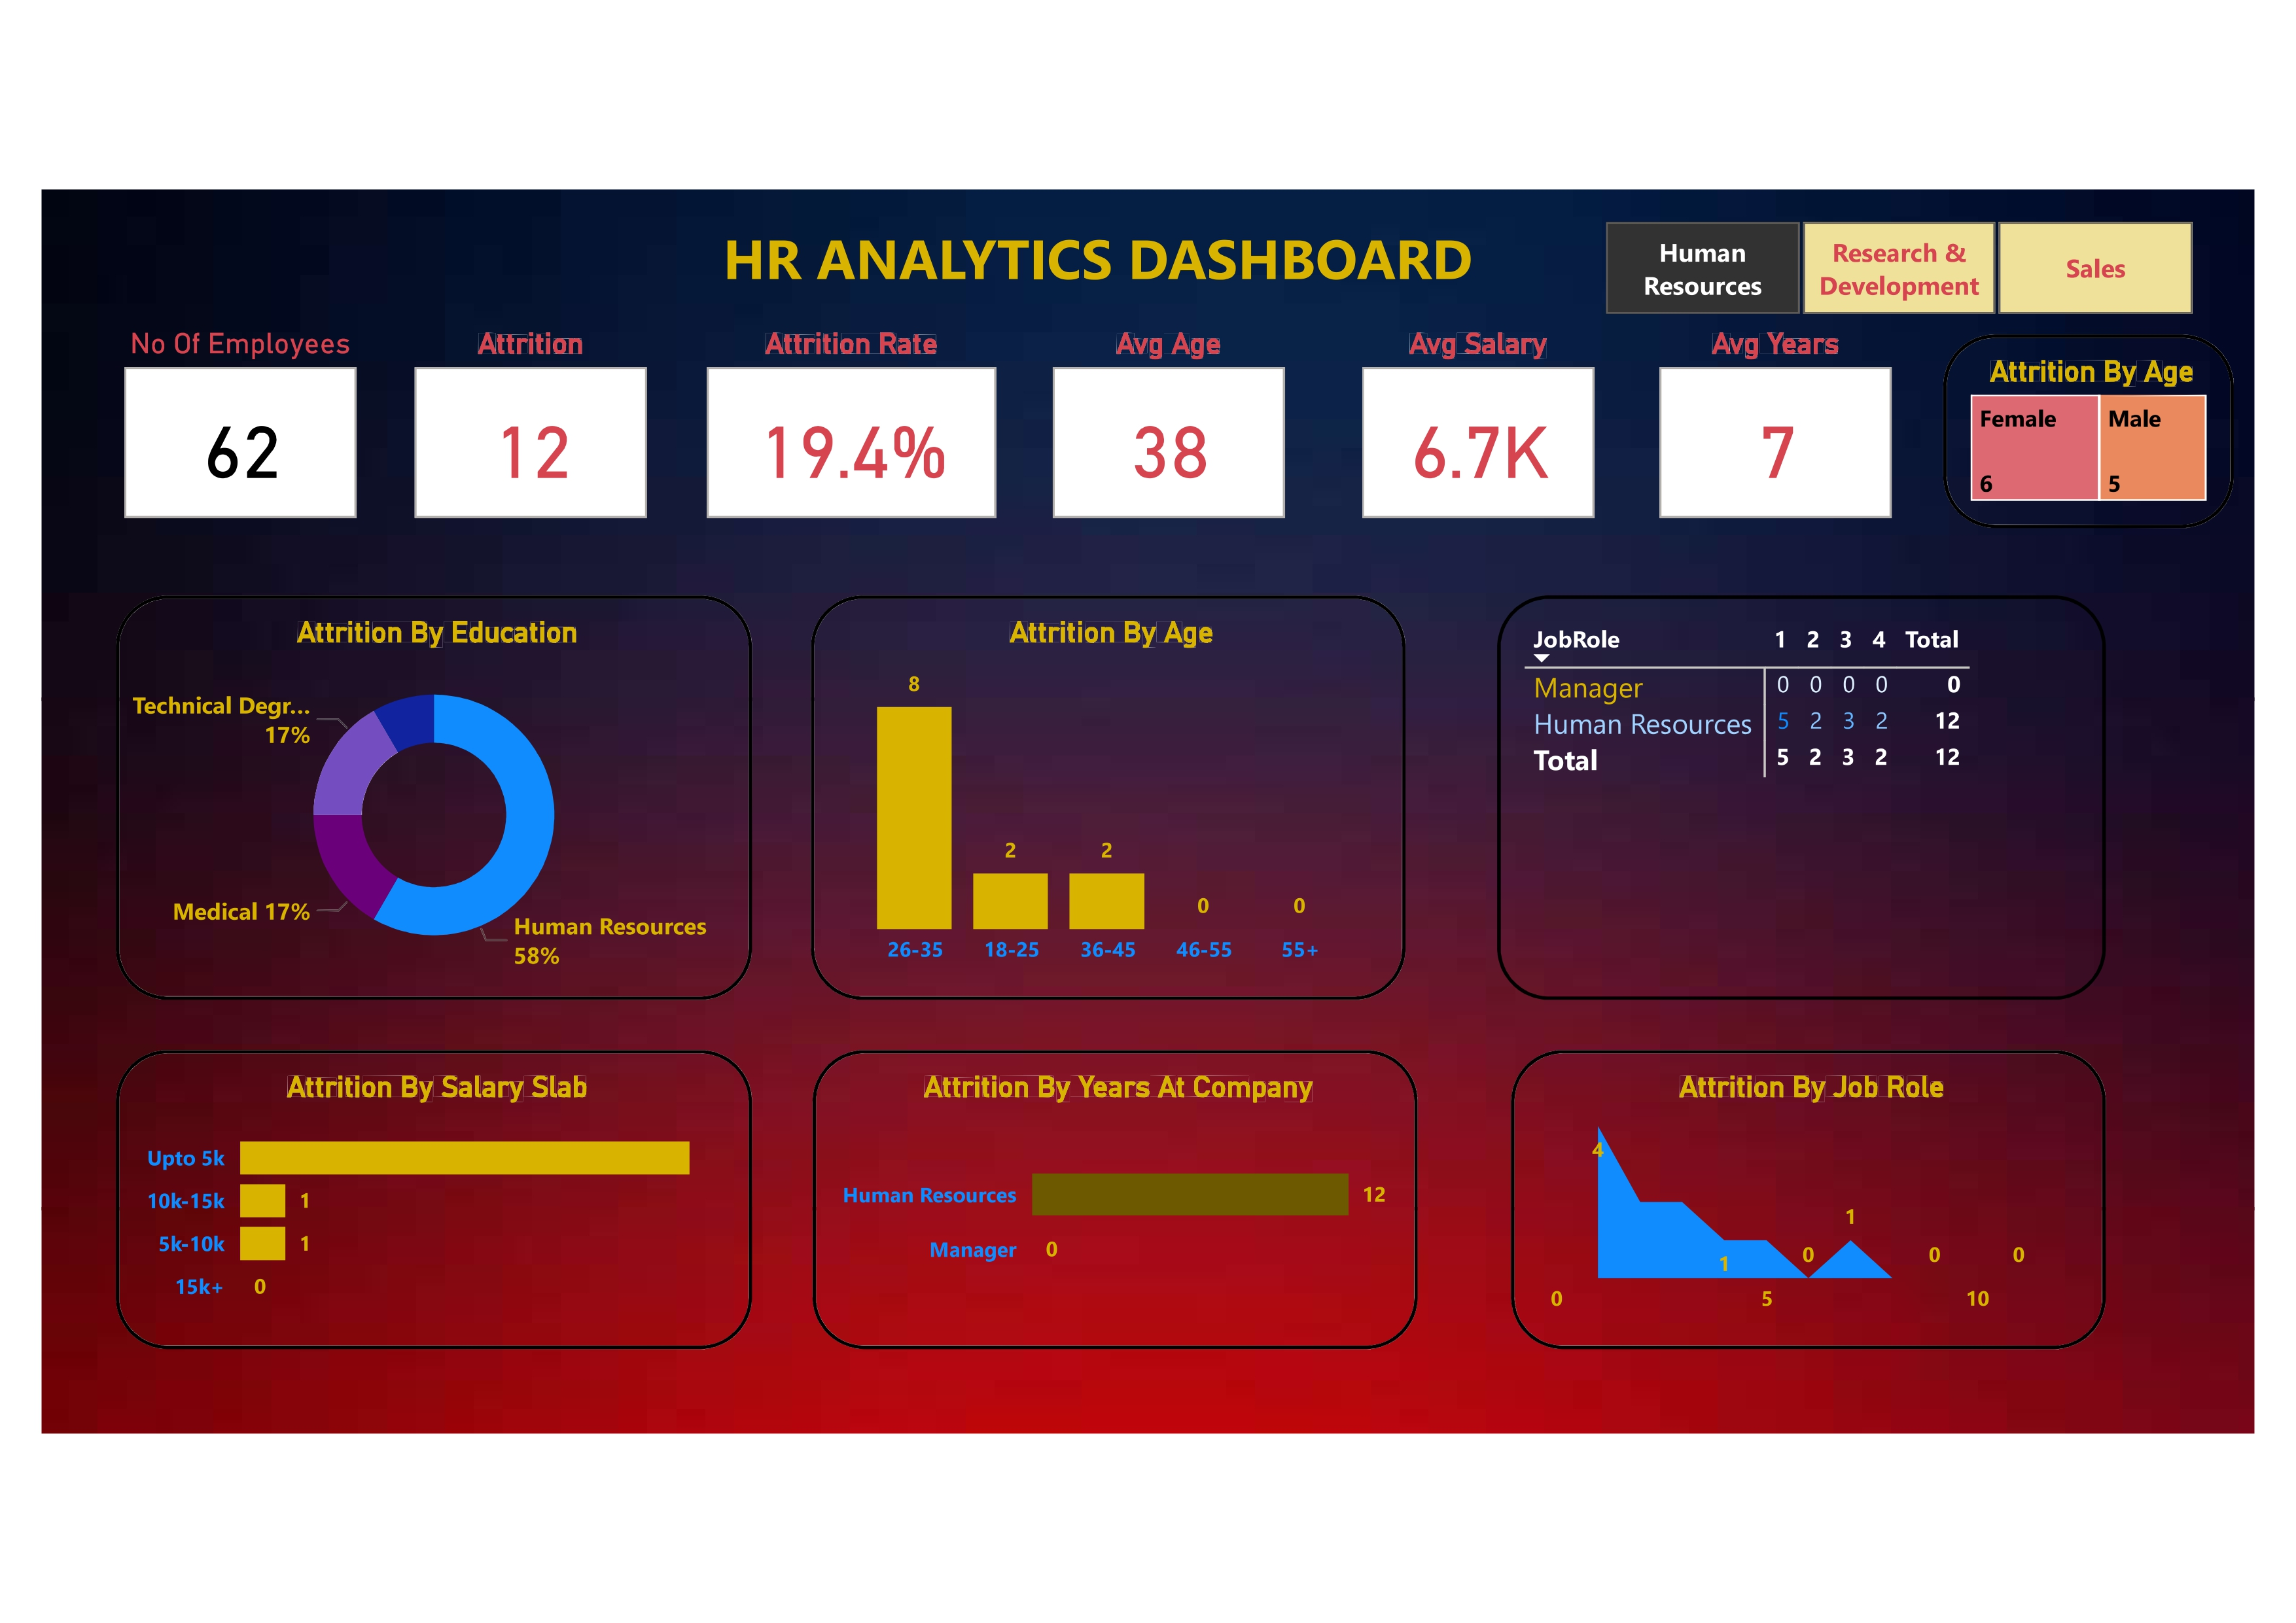

The page's visual inventory and layout, read from the dashboard file:
{"tool":"powerbi","page":{"name":"Page 1","canvas":[1280,720],"ordinal":0},"visuals":[{"type":"cardVisual","title":"No Of Employees","fields":{"Data":["CountNonNull(HR_Analytics (1).EmpID)"]},"box":[43.3,78.6,144.1,116.9],"z":0},{"type":"cardVisual","title":"Attrition","fields":{"Data":["Sum(HR_Analytics (1).AttritionCount)"]},"box":[210.6,78.6,144.1,116.9],"z":1},{"type":"cardVisual","title":"Attrition Rate","fields":{"Data":["HR_Analytics (1).AttritionRate"]},"box":[380,78.6,177.4,116.9],"z":2},{"type":"cardVisual","title":"Avg Age","fields":{"Data":["Avg(HR_Analytics (1).Age)"]},"box":[579.5,78.6,144.1,116.9],"z":3},{"type":"cardVisual","title":"Avg Salary","fields":{"Data":["Avg(HR_Analytics (1).MonthlyIncome)"]},"box":[758.9,78.6,144.1,116.9],"z":4},{"type":"cardVisual","title":"Avg Years","fields":{"Data":["Avg(HR_Analytics (1).YearsAtCompany)"]},"box":[931.3,78.6,144.1,116.9],"z":5},{"type":"donutChart","title":"Attrition By Education","fields":{"Category":["HR_Analytics (1).EducationField"],"Y":["Sum(HR_Analytics (1).AttritionCount)"]},"box":[43.3,234.8,367.9,233.8],"z":6},{"type":"columnChart","title":"Attrition By Age","fields":{"Y":["Sum(HR_Analytics (1).AttritionCount)"],"Category":["HR_Analytics (1).AgeGroup"]},"box":[445.5,234.8,343.7,233.8],"z":7},{"type":"pivotTable","fields":{"Rows":["HR_Analytics (1).JobRole"],"Columns":["HR_Analytics (1).JobSatisfaction"],"Values":["Sum(HR_Analytics (1).AttritionCount)"]},"box":[841.6,234.8,352.8,233.8],"z":8},{"type":"barChart","title":"Attrition By Salary Slab","fields":{"Category":["HR_Analytics (1).SalarySlab"],"Y":["Sum(HR_Analytics (1).AttritionCount)"]},"box":[43,498.3,368.2,173.1],"z":9},{"type":"barChart","title":"Attrition By Years At Company","fields":{"Y":["Sum(HR_Analytics (1).AttritionCount)"],"Category":["HR_Analytics (1).JobRole"]},"box":[446,498.3,349.6,173.1],"z":10},{"type":"areaChart","title":"Attrition By Job Role","fields":{"Category":["HR_Analytics (1).YearsAtCompany"],"Y":["Sum(HR_Analytics (1).AttritionCount)"]},"box":[850.2,498.3,343.8,173.1],"z":11},{"type":"treemap","title":"Attrition By Age","fields":{"Group":["HR_Analytics (1).Gender"],"Values":["Sum(HR_Analytics (1).AttritionCount)"]},"box":[1100,83.6,168.4,112.7],"z":12},{"type":"slicer","fields":{"Values":["HR_Analytics (1).Department"]},"box":[879.3,11.6,389.1,67.4],"z":13},{"type":"textbox","box":[99.9,11.6,779.4,60],"z":14}]}

Visuals, with their boxes on the page's 1280x720 design canvas (x1, y1, x2, y2). These are canvas units, not pixel positions in the 2296x1623 screenshot, which may show the page scaled, cropped or inside an application window:
"No Of Employees" cardVisual: <region>43, 79, 187, 196</region>
"Attrition" cardVisual: <region>211, 79, 355, 196</region>
"Attrition Rate" cardVisual: <region>380, 79, 557, 196</region>
"Avg Age" cardVisual: <region>580, 79, 724, 196</region>
"Avg Salary" cardVisual: <region>759, 79, 903, 196</region>
"Avg Years" cardVisual: <region>931, 79, 1075, 196</region>
"Attrition By Education" donutChart: <region>43, 235, 411, 469</region>
"Attrition By Age" columnChart: <region>446, 235, 789, 469</region>
pivotTable - HR_Analytics (1).JobRole x HR_Analytics (1).JobSatisfaction: <region>842, 235, 1194, 469</region>
"Attrition By Salary Slab" barChart: <region>43, 498, 411, 671</region>
"Attrition By Years At Company" barChart: <region>446, 498, 796, 671</region>
"Attrition By Job Role" areaChart: <region>850, 498, 1194, 671</region>
"Attrition By Age" treemap: <region>1100, 84, 1268, 196</region>
slicer - HR_Analytics (1).Department: <region>879, 12, 1268, 79</region>
textbox: <region>100, 12, 879, 72</region>
